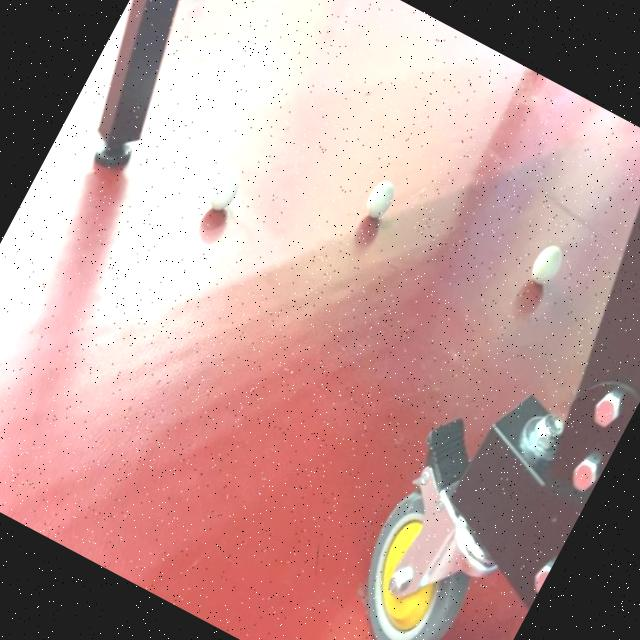ping-pong-ball: (520, 234, 572, 294), (196, 158, 248, 218), (356, 169, 402, 225)
